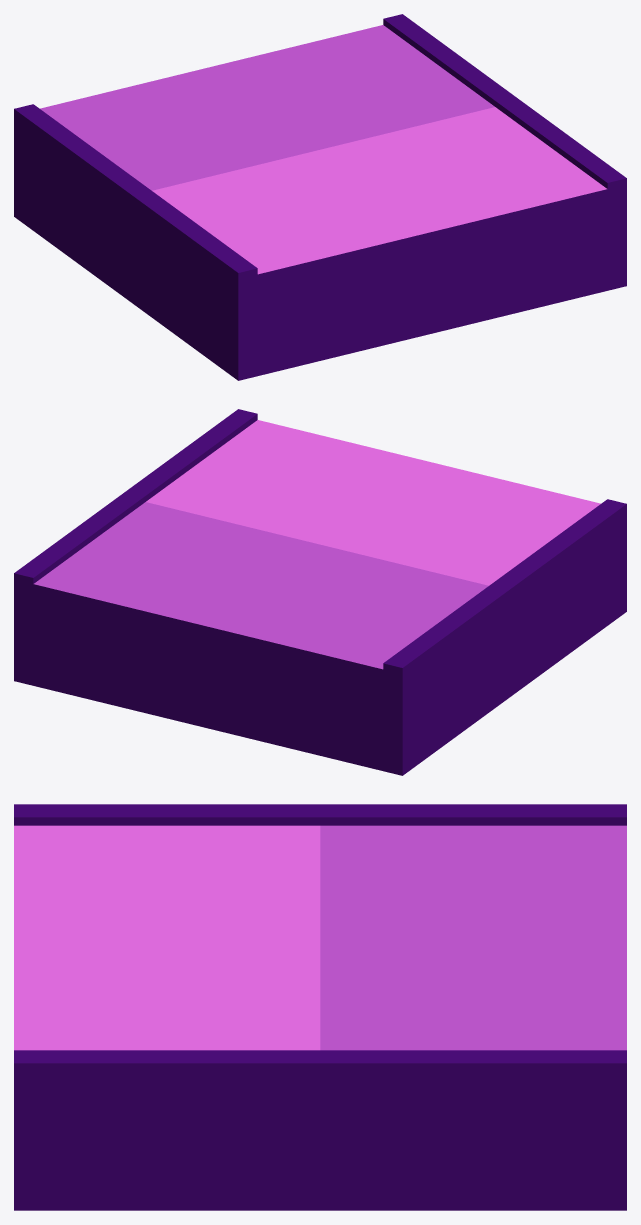
Rendered from road_pink_1.fbx.
The picture shows the model from 3 angles, top to bottom: view 1: azimuth 30°, elevation 25°; view 2: azimuth 150°, elevation 25°; view 3: azimuth 270°, elevation 25°; orthographic projection. The views are drawn at different scales.
Parts seen in each view (by area): view 1: road_pink_1; view 2: road_pink_1; view 3: road_pink_1.
Boxes of the visible parts, x1,y1,x2,y2 form: road_pink_1: (14,14,626,380); road_pink_1: (14,409,626,775); road_pink_1: (14,804,626,1210).
Size of the model in its own units: 2 by 0.5304 by 2.
